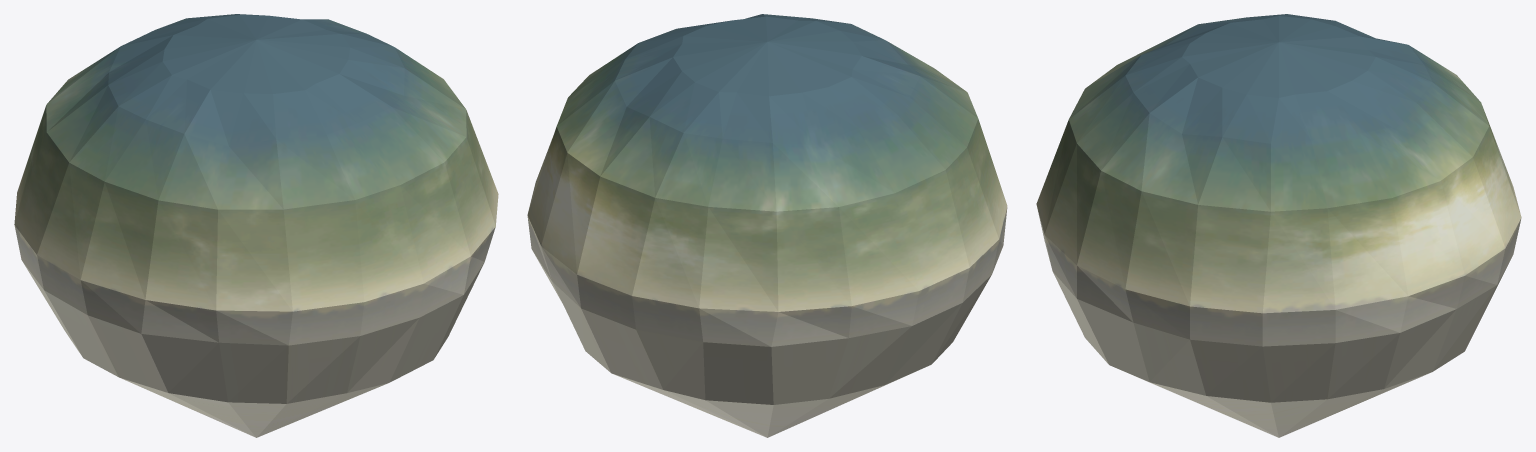
Rendered from S12_SKY.obj.
3 renders of one model, left to right at view 1: azimuth 30°, elevation 25°; view 2: azimuth 150°, elevation 25°; view 3: azimuth 270°, elevation 25°, orthographic.
Parts seen in each view (by area): view 1: Node 0; view 2: Node 0; view 3: Node 0.
Part boxes in pixels (bbox=[...]): Node 0: bbox=[14, 14, 498, 437]; Node 0: bbox=[527, 14, 1007, 437]; Node 0: bbox=[1036, 14, 1521, 437].
Bounding box in the file's own units: 0.6 × 0.54 × 0.6.
1 material, 1 textured.
